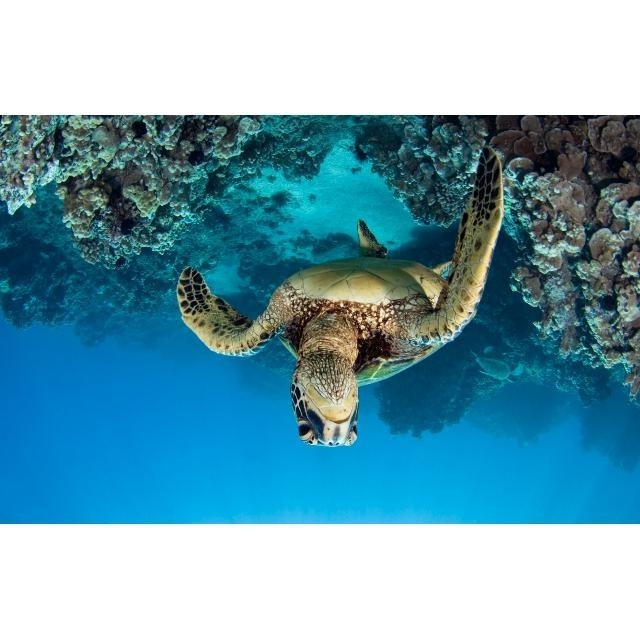turtle: (174, 147, 502, 447)
